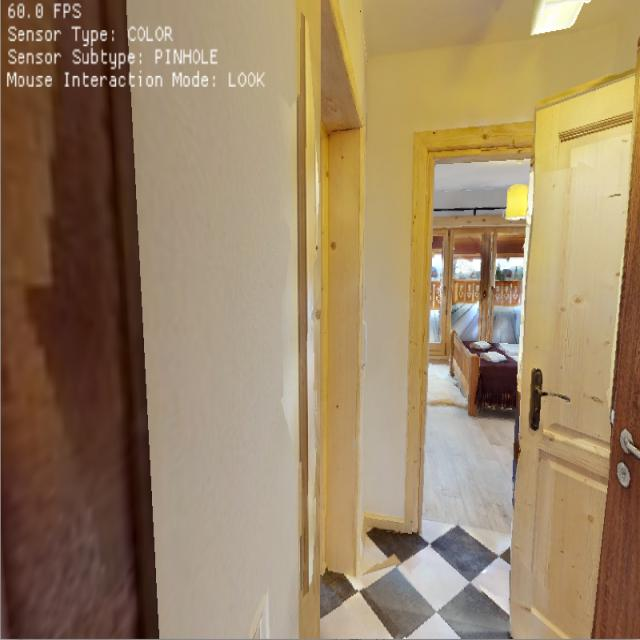door: (502, 76, 640, 640)
door-frame: (404, 100, 536, 532)
